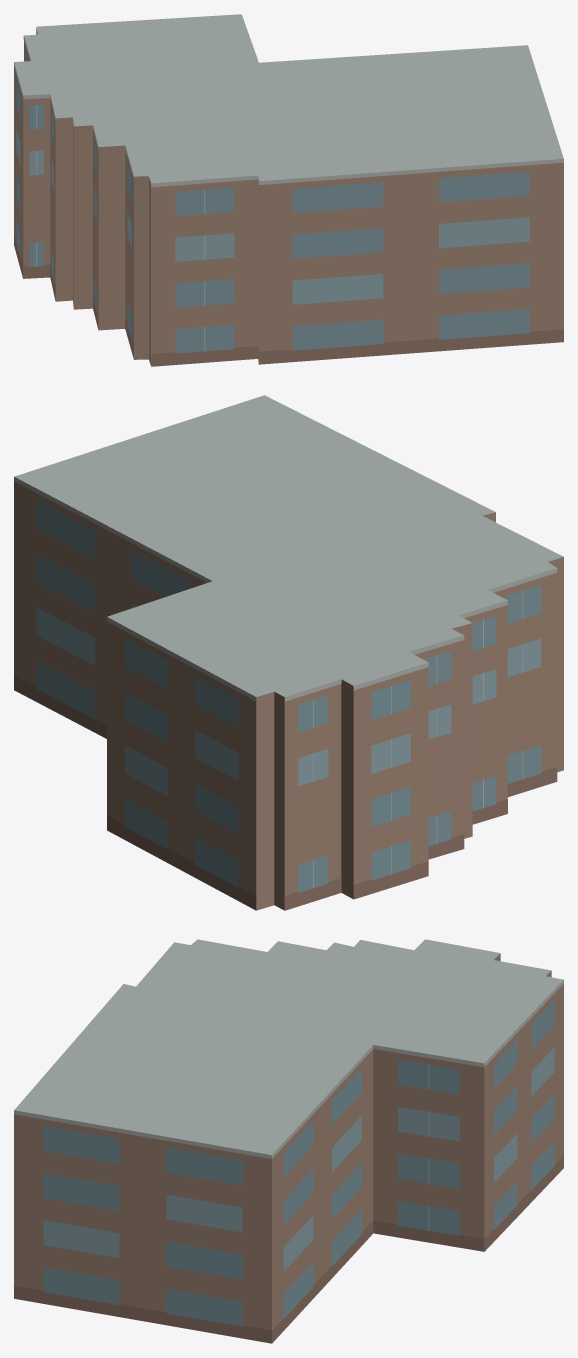
The model's file is survey-upis-32815186.glb.
The picture shows the model from 3 angles, top to bottom: view 1: azimuth 30°, elevation 25°; view 2: azimuth 150°, elevation 25°; view 3: azimuth 270°, elevation 25°; orthographic projection. The views are drawn at different scales.
Parts seen in each view (by area): view 1: survey-upis-32815186.tmp; view 2: survey-upis-32815186.tmp; view 3: survey-upis-32815186.tmp.
Boxes of the visible parts, x1,y1,x2,y2 form: survey-upis-32815186.tmp: (14, 14, 563, 366); survey-upis-32815186.tmp: (14, 395, 563, 910); survey-upis-32815186.tmp: (14, 939, 563, 1343).
Bounding box in the file's own units: 28.26 × 11.5 × 30.42.
